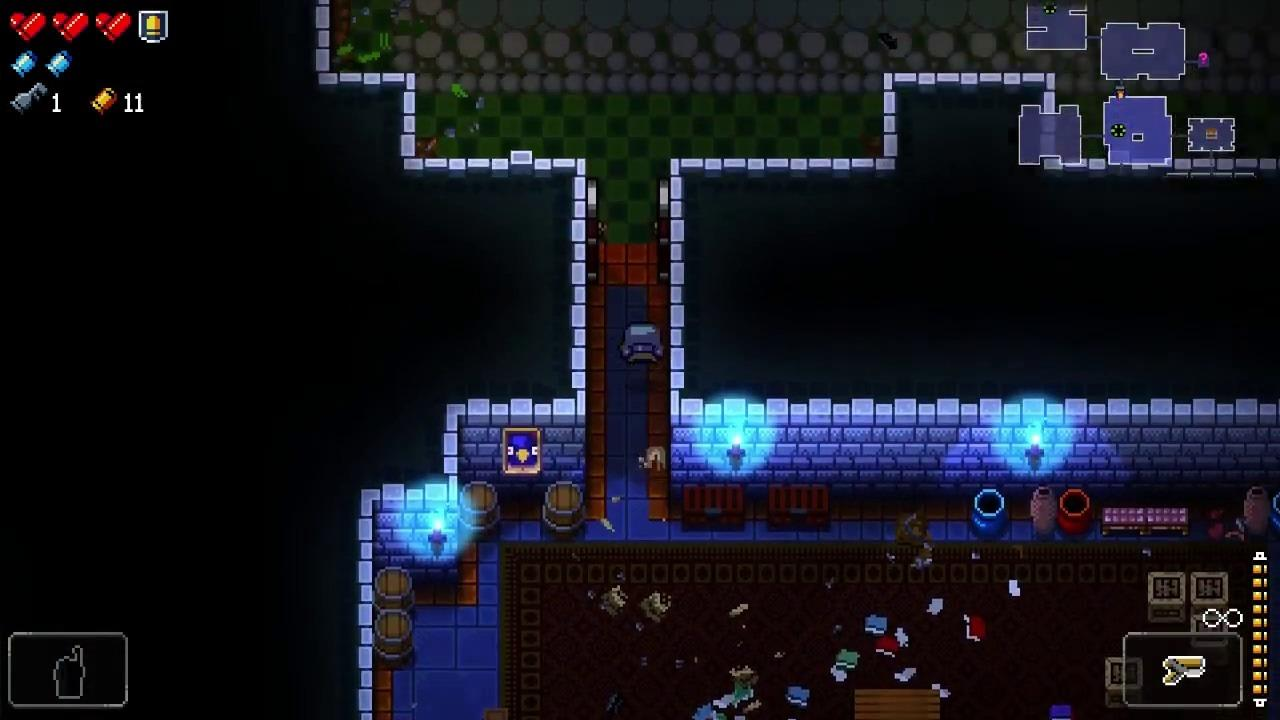player: (621, 320, 662, 366)
table: (854, 689, 941, 720)
unlocked_door: (586, 178, 599, 283), (658, 179, 670, 289)
